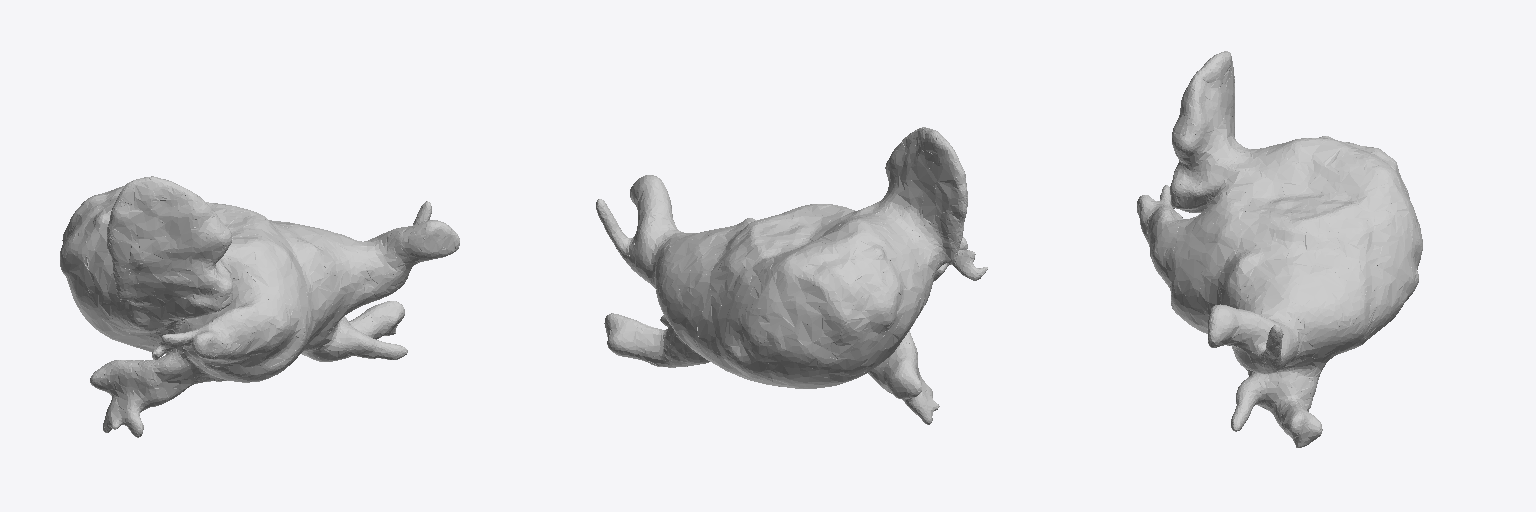
File: Bordeaux_Case5_LA.obj
3 views of the same model, side by side, from view 1: azimuth 30°, elevation 25°; view 2: azimuth 150°, elevation 25°; view 3: azimuth 270°, elevation 25° (orthographic).
Size of the model in its own units: 104 by 77.1 by 74.07.